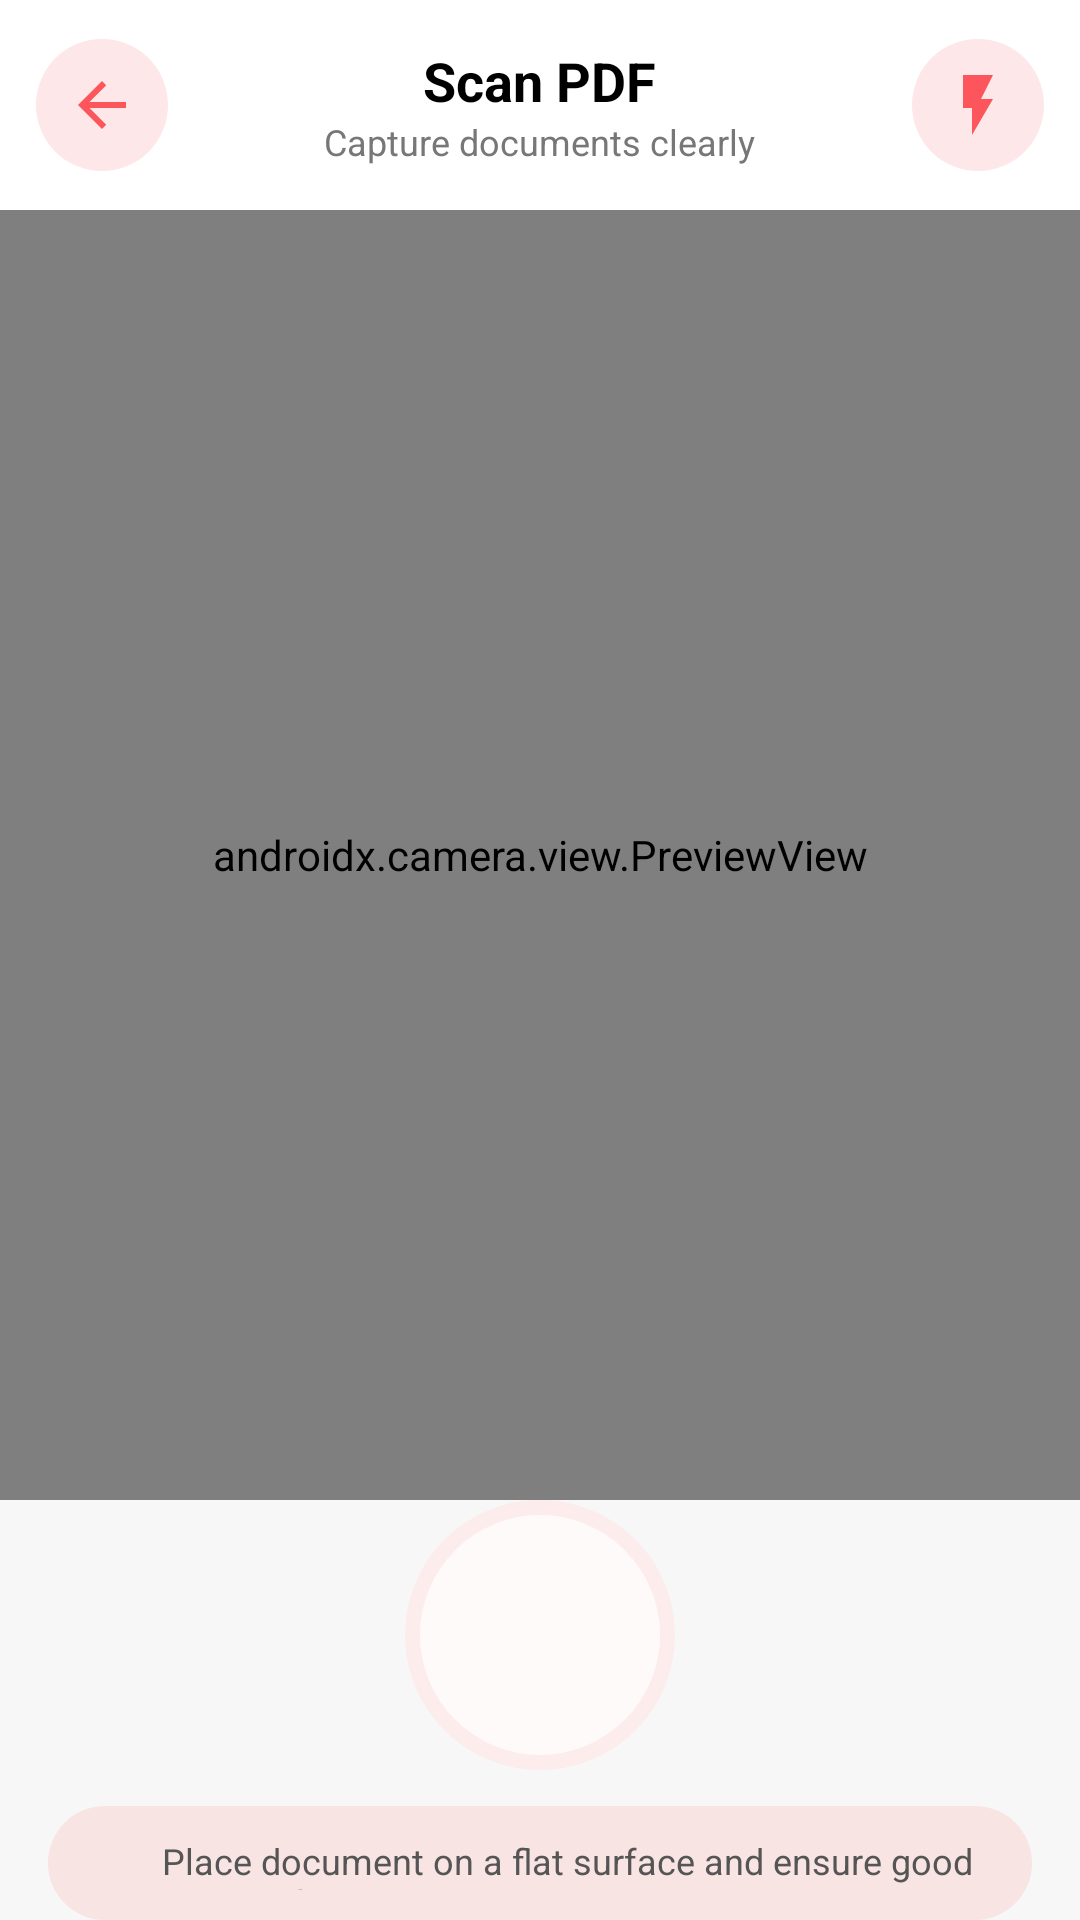

Where icons sit on this 1080*1920 app screen, as (x1, y1, x2, y2):
back: (36, 39, 168, 171)
flash: (963, 75, 993, 135)
